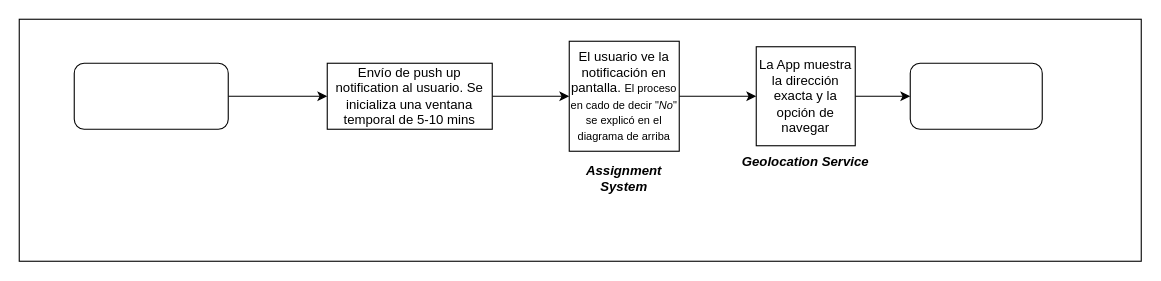
This 1161x281 diagram has some shape labels left out. Each missing label, with the centre of its shape:
"Fin" goes at (x=975, y=95).
"Inicio El Matching Algorithm selecciona el candidato" goes at (x=150, y=95).
